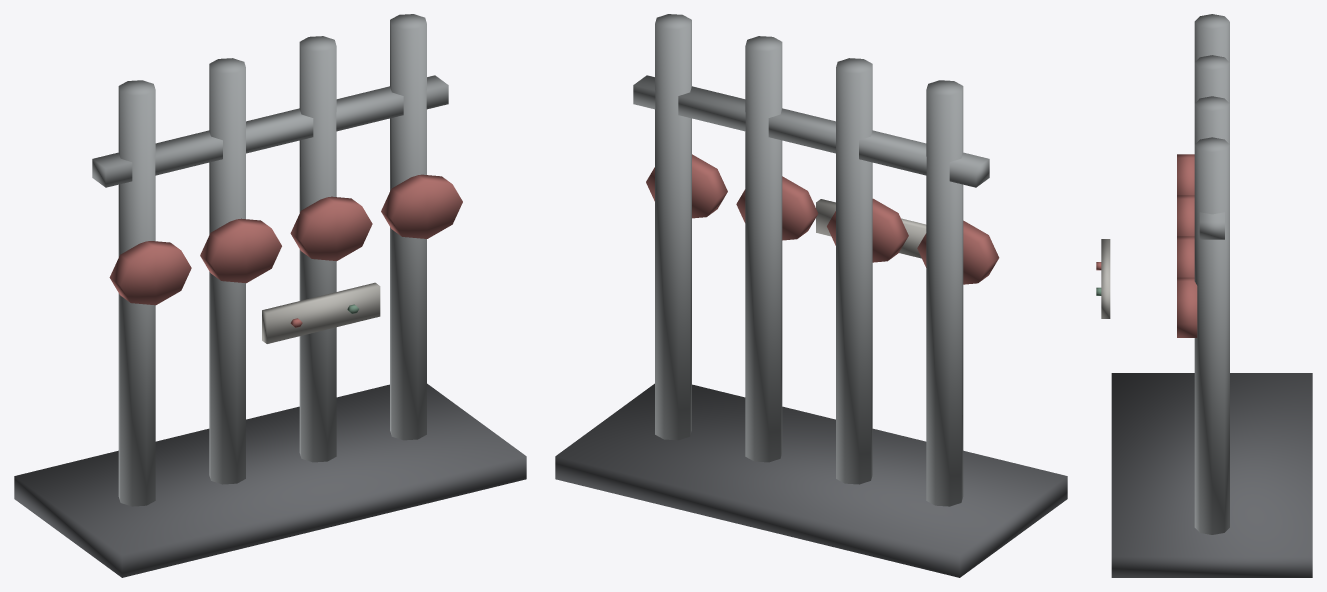
Rendered from steam_manifold__squat.glb.
3 renders of one model, left to right at view 1: azimuth 30°, elevation 25°; view 2: azimuth 150°, elevation 25°; view 3: azimuth 270°, elevation 25°, orthographic. The views are drawn at different scales.
Parts seen in each view (by area): view 1: world; view 2: world; view 3: world.
Boxes of the visible parts, x1,y1,x2,y2 form: world: (14, 14, 526, 577); world: (555, 14, 1067, 577); world: (1096, 14, 1312, 577).
Bounding box in the file's own units: 0.935 × 0.9576 × 0.4655.
